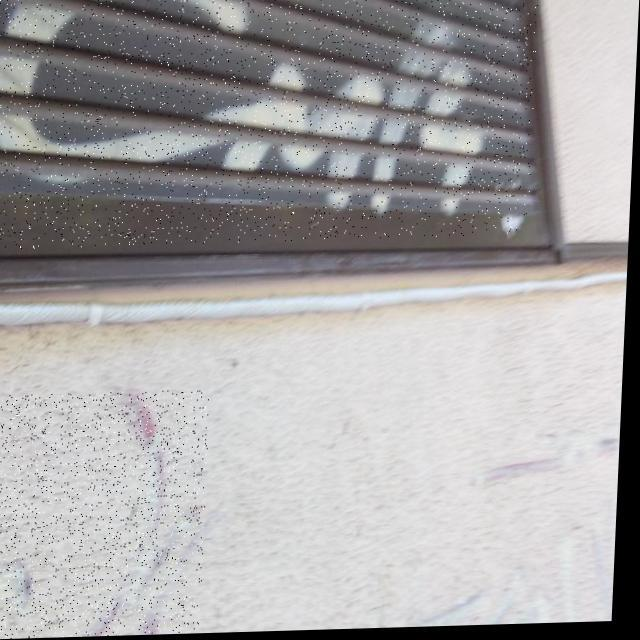-: (0, 0, 539, 250), (0, 391, 214, 640)
